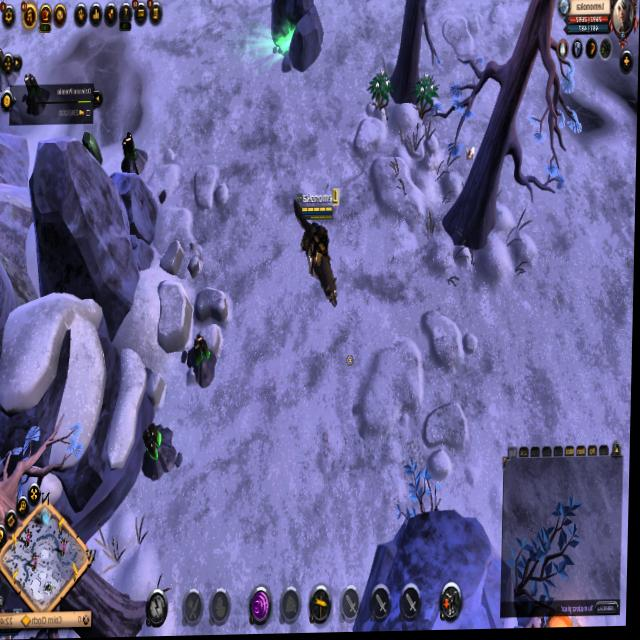fiber tier 3: (414, 73, 440, 123), (367, 69, 393, 117)
ore tier 3: (139, 415, 182, 491), (186, 332, 221, 395), (119, 129, 148, 184)
